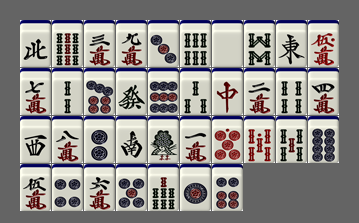0m: (308, 20, 339, 67)
0p: (212, 116, 243, 163)
0s: (244, 116, 275, 163)
1m: (180, 116, 211, 163)
1p: (180, 164, 211, 211)
1s: (148, 116, 179, 163)
1z: (276, 20, 307, 67)
2m: (244, 68, 275, 115)
2p: (84, 116, 115, 163)
2s: (52, 68, 83, 115)
2z: (116, 116, 147, 163)
3m: (84, 20, 115, 67)
3p: (148, 20, 179, 67)
3s: (180, 68, 211, 115)
3z: (20, 116, 51, 163)
4m: (308, 68, 339, 115)
4p: (52, 164, 83, 211)
4s: (276, 68, 307, 115)
4z: (20, 20, 51, 67)
5m: (20, 164, 51, 211)
5p: (116, 164, 147, 211)
5s: (276, 116, 307, 163)
5z: (212, 20, 243, 67)
6m: (84, 164, 115, 211)
6p: (212, 164, 243, 211)
6s: (180, 20, 211, 67)
6z: (116, 68, 147, 115)
7m: (20, 68, 51, 115)
7p: (84, 68, 115, 115)
7s: (148, 164, 179, 211)
7z: (212, 68, 243, 115)
8m: (52, 116, 83, 163)
8p: (308, 116, 339, 163)
8s: (244, 20, 275, 67)
9m: (116, 20, 147, 67)
9p: (148, 68, 179, 115)
9s: (52, 20, 83, 67)
